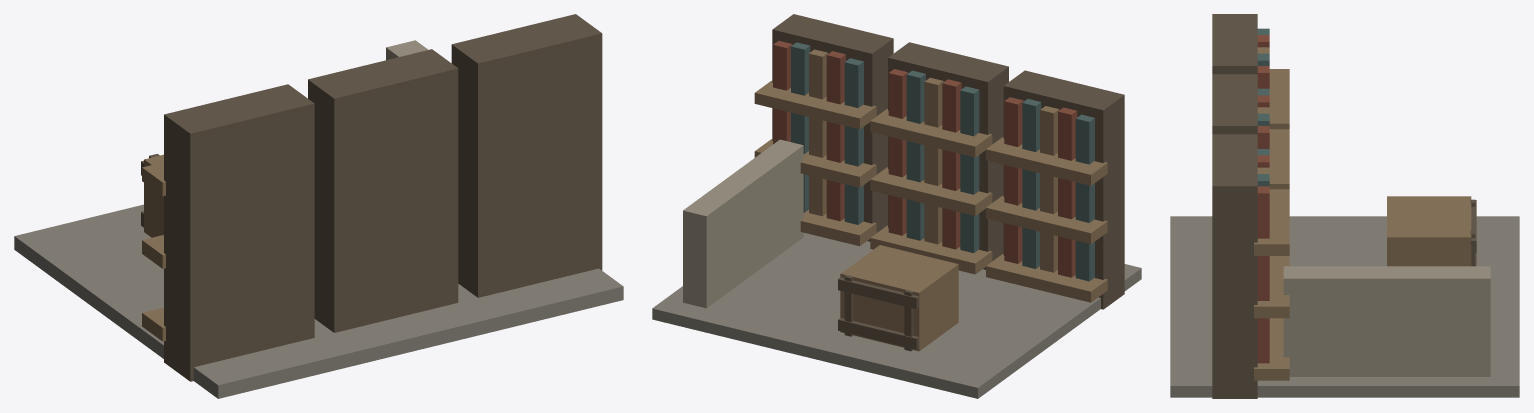
The model's file is Dungeon_BookArchive.fbx.
The picture shows the model from 3 angles, left to right: view 1: azimuth 30°, elevation 25°; view 2: azimuth 150°, elevation 25°; view 3: azimuth 270°, elevation 25°; orthographic projection. The views are drawn at different scales.
Visible parts, largest first — view 1: Dungeon_BookArchive; view 2: Dungeon_BookArchive; view 3: Dungeon_BookArchive.
Part boxes in pixels (x1,y1,x2,y2): Dungeon_BookArchive: [14, 14, 623, 398]; Dungeon_BookArchive: [652, 14, 1141, 398]; Dungeon_BookArchive: [1170, 14, 1519, 398].
Bounding box in the file's own units: 5.12 × 2.9 × 4.32.
